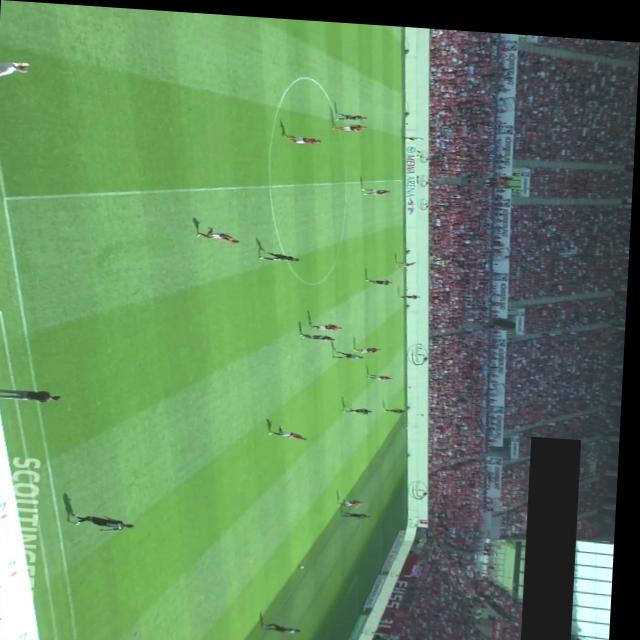goalkeeper: (337, 632, 369, 640)
player: (72, 511, 140, 531), (199, 223, 243, 241), (272, 420, 312, 436), (261, 246, 302, 258), (269, 618, 307, 630), (283, 131, 322, 141), (302, 329, 338, 338), (332, 118, 368, 127), (335, 108, 367, 117), (311, 318, 346, 326), (342, 493, 369, 502), (346, 402, 376, 410), (345, 506, 375, 514), (362, 183, 392, 191), (366, 273, 397, 280), (369, 368, 396, 376), (357, 341, 384, 349), (388, 402, 409, 409), (398, 255, 418, 262), (401, 288, 423, 293)
referee: (336, 345, 367, 355), (403, 130, 426, 136)
